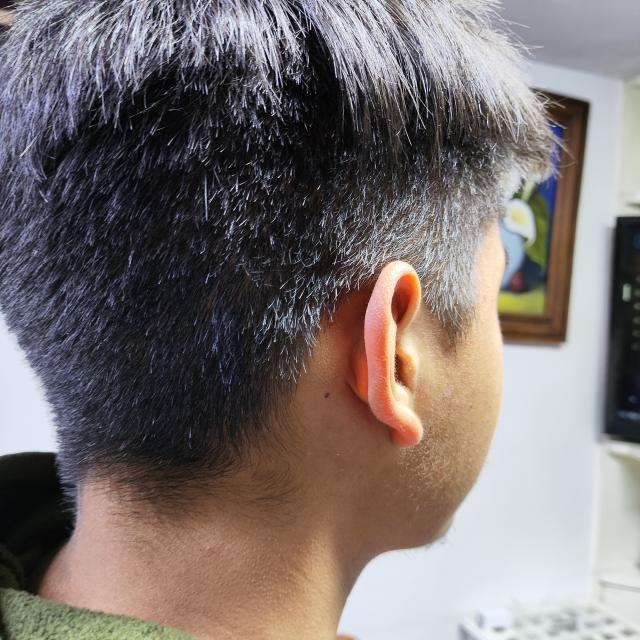ear: (364, 262, 422, 449)
